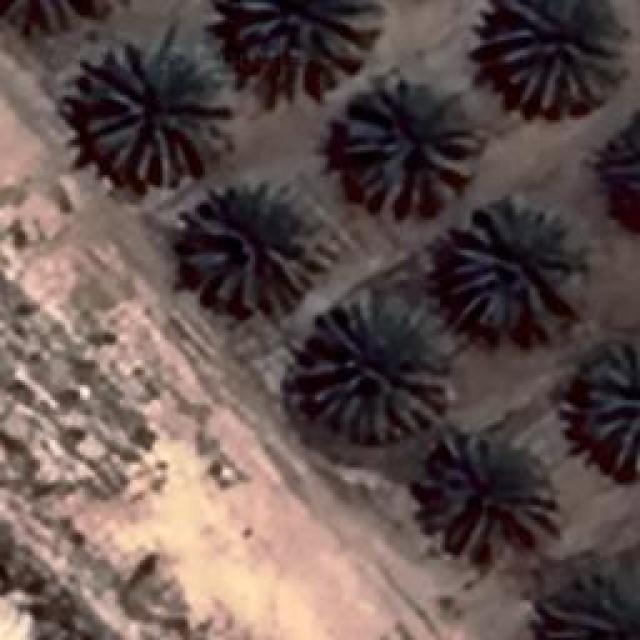PalmTree: (80, 34, 238, 188), (294, 292, 448, 442), (335, 80, 480, 215), (180, 180, 320, 312), (445, 195, 575, 330), (424, 430, 558, 550), (490, 0, 620, 110), (237, 0, 382, 62), (534, 562, 638, 636), (584, 342, 638, 470), (0, 0, 123, 40), (605, 121, 640, 214)
